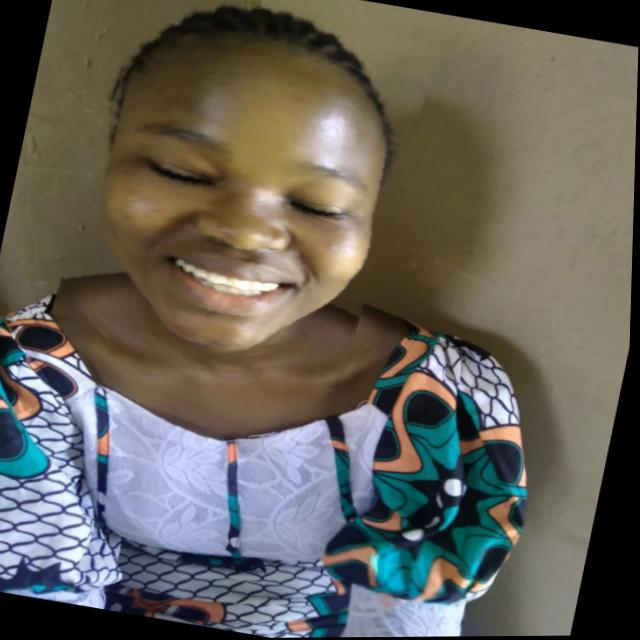happy: (54, 0, 438, 389)
